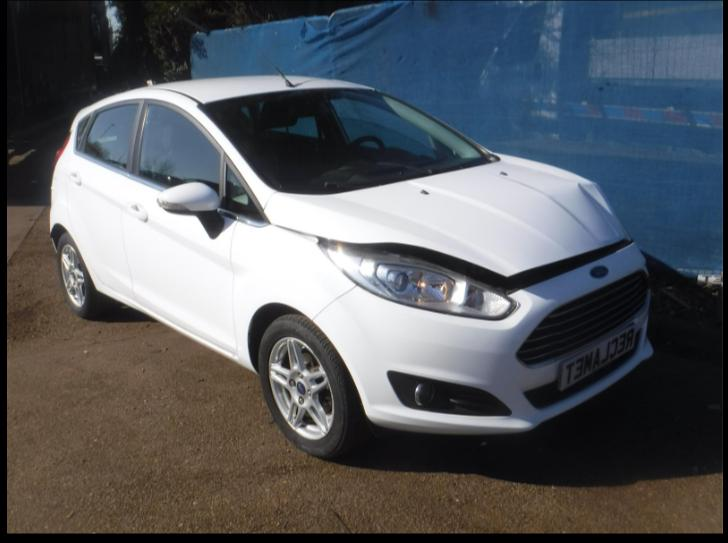Broken part: (264, 155, 633, 298)
Dent: (564, 169, 628, 240)
